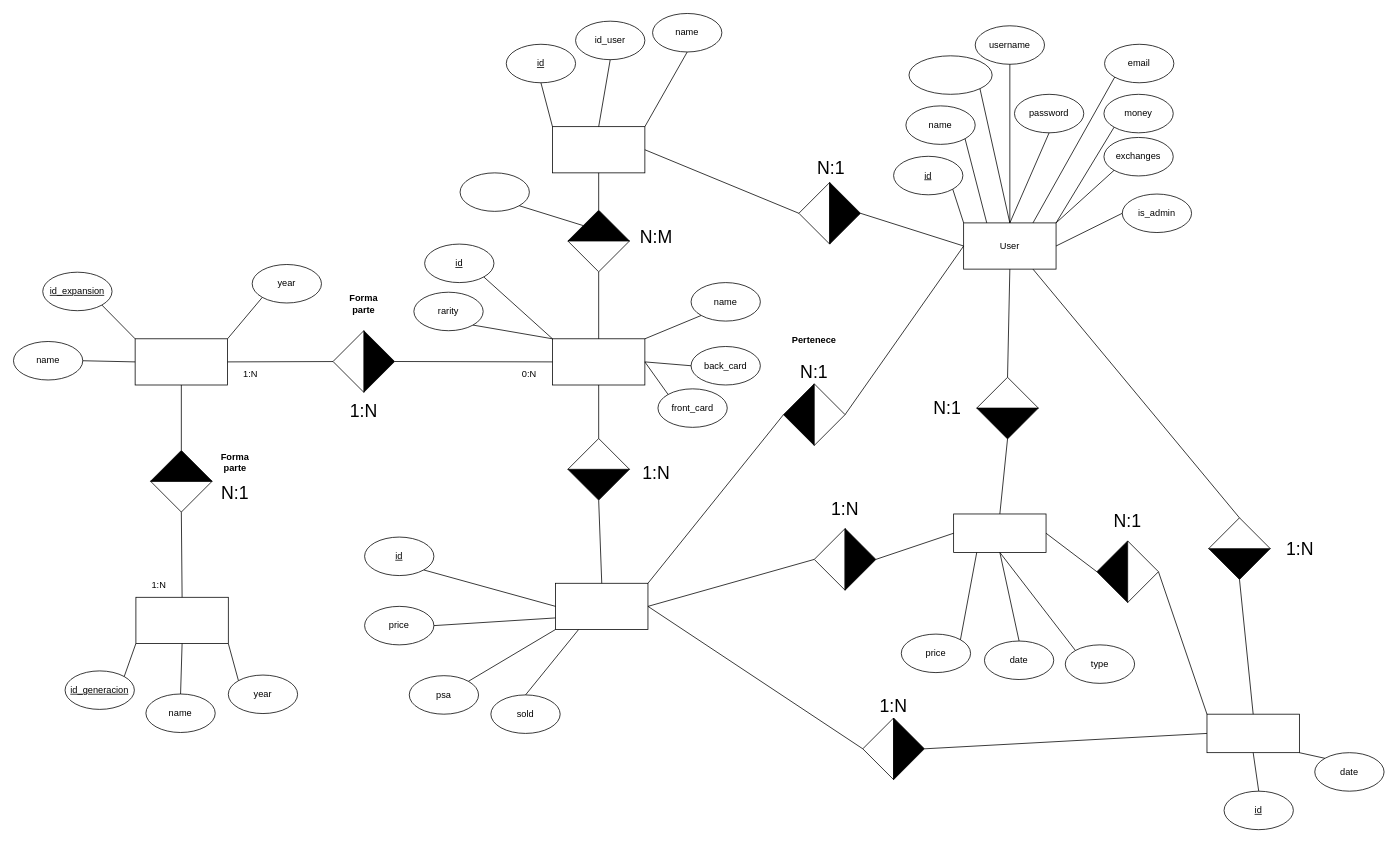
This 1398x843 diagram has some shape labels left out. Each missing label, with the centre of its shape:
cantidad: the point at 494,191
Card: the point at 598,361
Deck: the point at 598,149
Expansion: the point at 181,361
Generation: the point at 181,620
opened_boosters: the point at 950,74
Trade: the point at 1252,733
Transaction: the point at 999,532
User card: the point at 601,606
